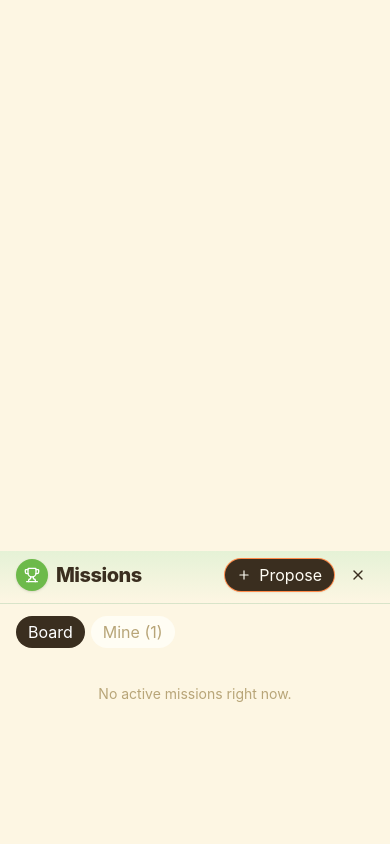
Test: MissionPanel Follower ownership › lets a Follower withdraw a mission opened from Mine even when userId is not available
Click the tab "Mine (1)".
click(133, 632)  # box [91, 616, 175, 648]
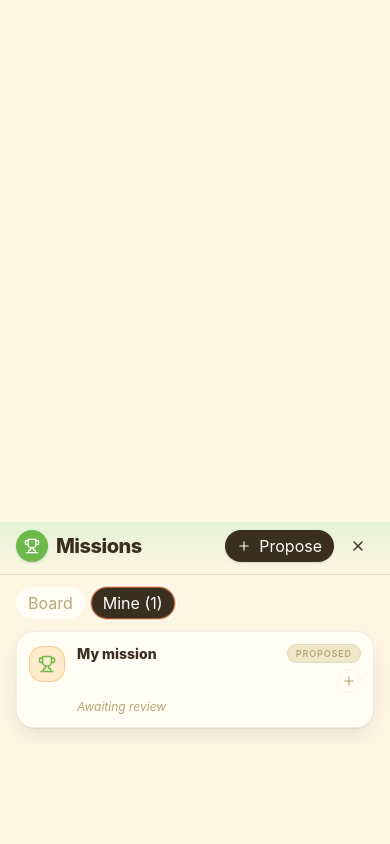
Click the text "My mission".
click(117, 653)  # box [77, 644, 157, 663]
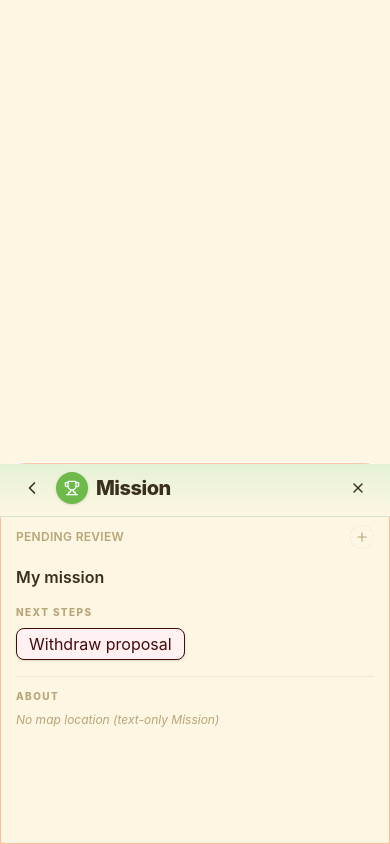
Result: the button "Withdraw proposal" is shown at [16, 628, 185, 660]
